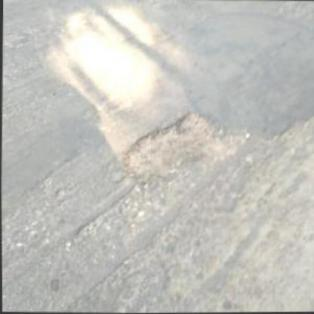Hueco: (122, 108, 249, 184)
